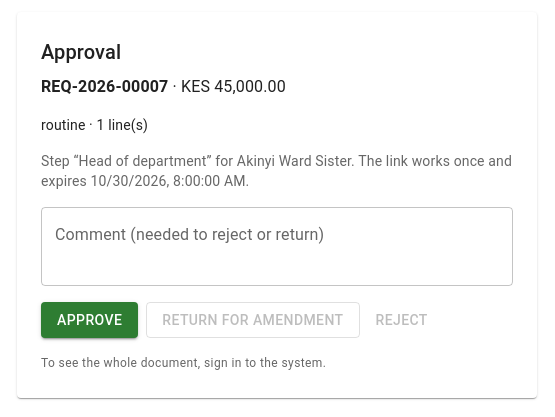
Scenario: Approve by link › shows the document and approves it once
Expected: the text "REQ-2026-00007" is shown, [41,77,168,96]
Expected: the text "Head of department" is shown, [78,153,206,169]
Click the button "Approve" at [90, 320], box [41,302,138,338]
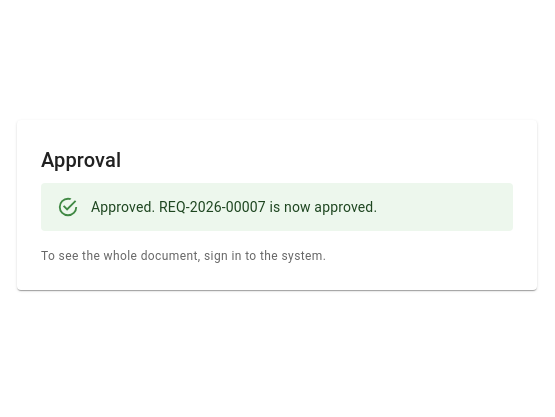
Result: the text "Approved. REQ-2026-00007 is now approved." is shown at [91,198,377,214]
